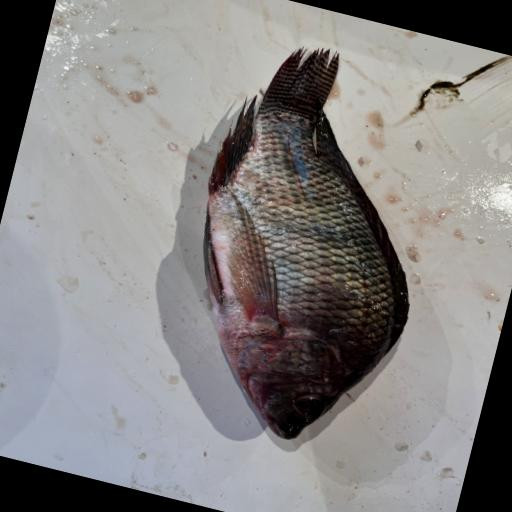Tilapia: (152, 28, 467, 461)
